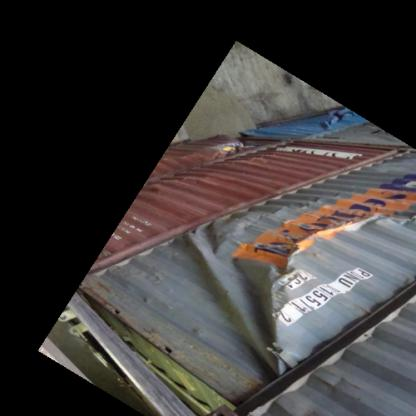Damage: (186, 214, 300, 384), (296, 182, 414, 264)
